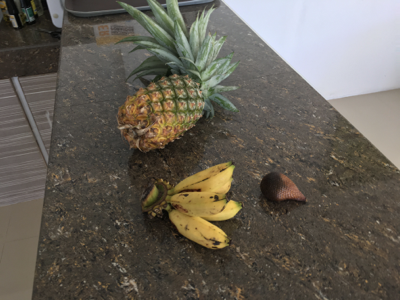banana: (142, 161, 243, 249)
pineapple: (114, 0, 236, 152)
snake fruit: (262, 172, 309, 207)
